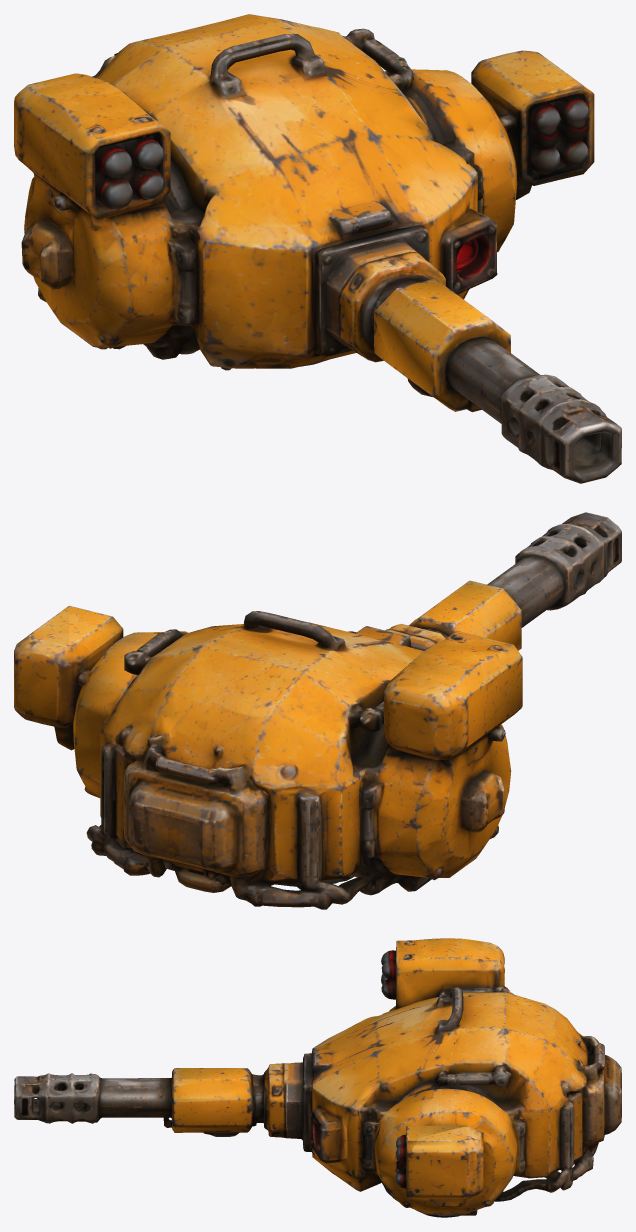
Rendered from NV_L2_Colossus_Model.fbx.
3 views of the same model, one above another, from view 1: azimuth 30°, elevation 25°; view 2: azimuth 150°, elevation 25°; view 3: azimuth 270°, elevation 25° (orthographic). The views are drawn at different scales.
Parts seen in each view (by area): view 1: tripo_node_896556aa-84b0-4387-80c0-f19aaffbb5df, tripo_node_896556aa-84b0-4387-80c0-f19aaffbb5df.001; view 2: tripo_node_896556aa-84b0-4387-80c0-f19aaffbb5df, tripo_node_896556aa-84b0-4387-80c0-f19aaffbb5df.001; view 3: tripo_node_896556aa-84b0-4387-80c0-f19aaffbb5df, tripo_node_896556aa-84b0-4387-80c0-f19aaffbb5df.001.
Boxes of the visible parts, bbox=[...] form: tripo_node_896556aa-84b0-4387-80c0-f19aaffbb5df: bbox=[14, 14, 594, 370]; tripo_node_896556aa-84b0-4387-80c0-f19aaffbb5df.001: bbox=[313, 225, 621, 483]; tripo_node_896556aa-84b0-4387-80c0-f19aaffbb5df: bbox=[14, 606, 522, 909]; tripo_node_896556aa-84b0-4387-80c0-f19aaffbb5df.001: bbox=[348, 512, 621, 650]; tripo_node_896556aa-84b0-4387-80c0-f19aaffbb5df: bbox=[310, 938, 621, 1217]; tripo_node_896556aa-84b0-4387-80c0-f19aaffbb5df.001: bbox=[14, 1053, 312, 1151].
Size of the model in its own units: 64.81 by 33 by 100.
Materials: 1 (1 with a texture image).
